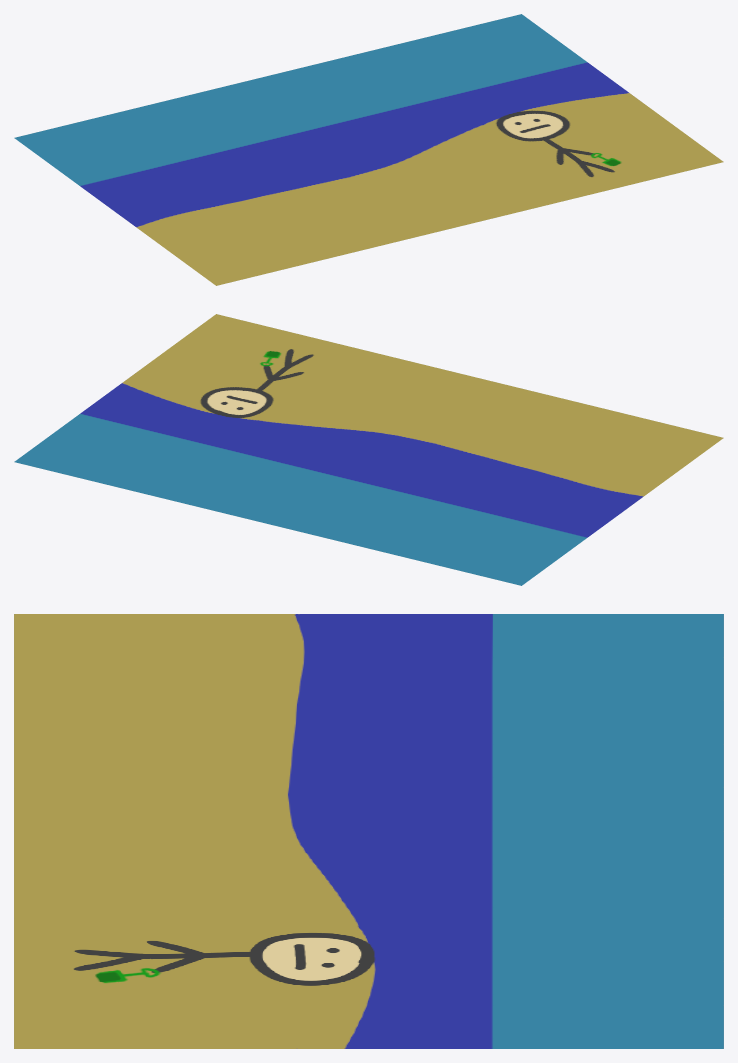
The model's file is SummerAnim1Shovel.fbx.
The picture shows the model from 3 angles, top to bottom: view 1: azimuth 30°, elevation 25°; view 2: azimuth 150°, elevation 25°; view 3: azimuth 270°, elevation 25°; orthographic projection. The views are drawn at different scales.
Visible parts, largest first — view 1: pPlane1; view 2: pPlane1; view 3: pPlane1.
Part boxes in pixels (box(x1,y1,x2,y2)): pPlane1: box(14, 14, 723, 285); pPlane1: box(14, 314, 723, 585); pPlane1: box(14, 614, 723, 1048).
Size of the model in its own units: 7.78 by 5.08e-16 by 5.37.
1 material, 1 textured.
